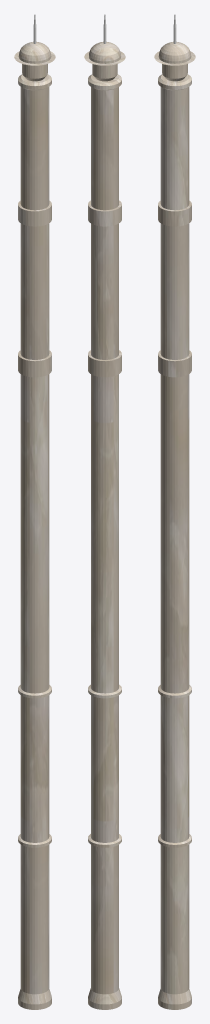
File: Tall Pillar.fbx
3 views of the same model, side by side, from view 1: azimuth 90°, elevation 25°; view 2: azimuth 150°, elevation 25°; view 3: azimuth 270°, elevation 25° (orthographic).
Parts seen in each view (by area): view 1: Cylinder.003; view 2: Cylinder.003; view 3: Cylinder.003.
Part boxes in pixels (box(x1,y1,x2,y2)): Cylinder.003: box(14, 14, 55, 1009); Cylinder.003: box(84, 14, 125, 1009); Cylinder.003: box(154, 14, 195, 1009).
Bounding box in the file's own units: 102 × 2683 × 102.
2 materials, 1 textured.
